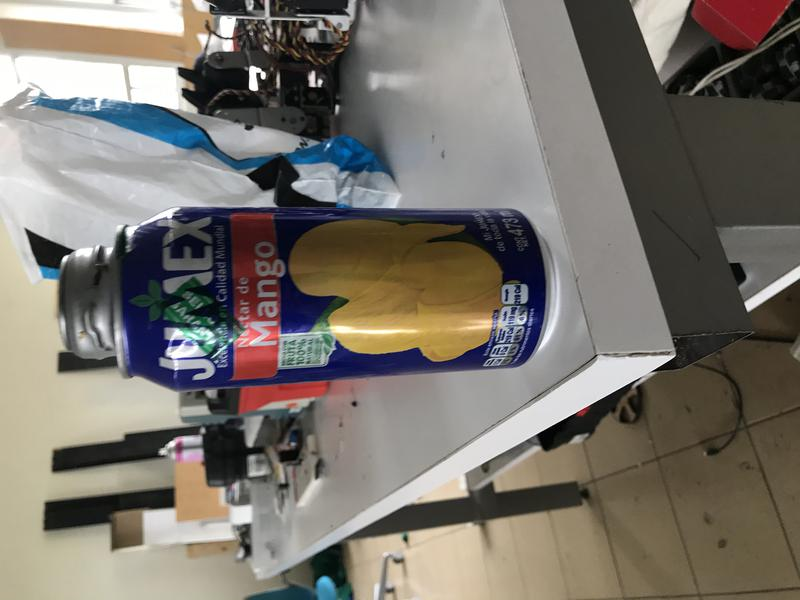jumex_botella: (57, 206, 562, 393)
